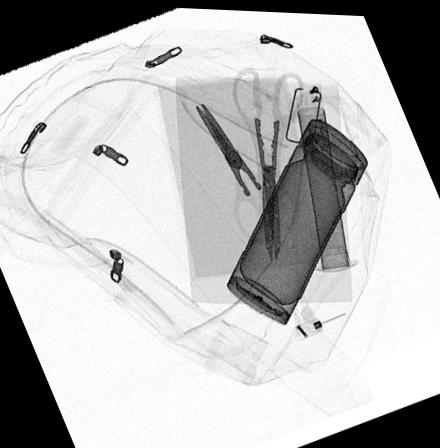Scissors: (191, 96, 302, 243), (227, 61, 304, 264)
